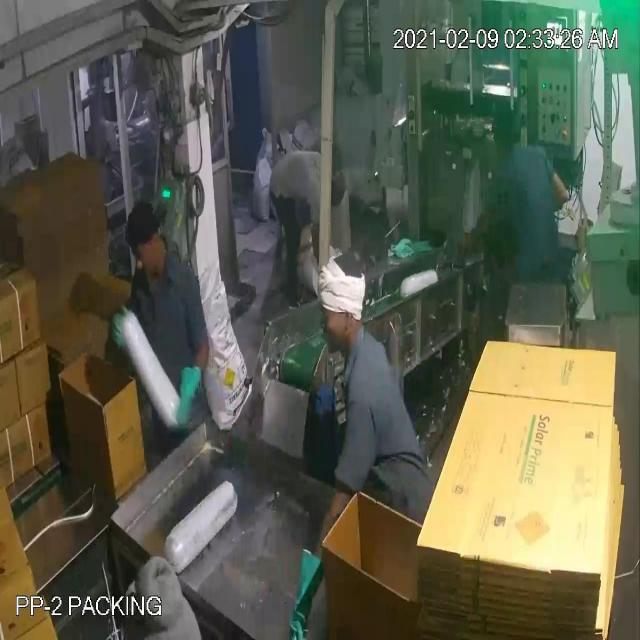Gloves: (36, 60, 480, 587)
